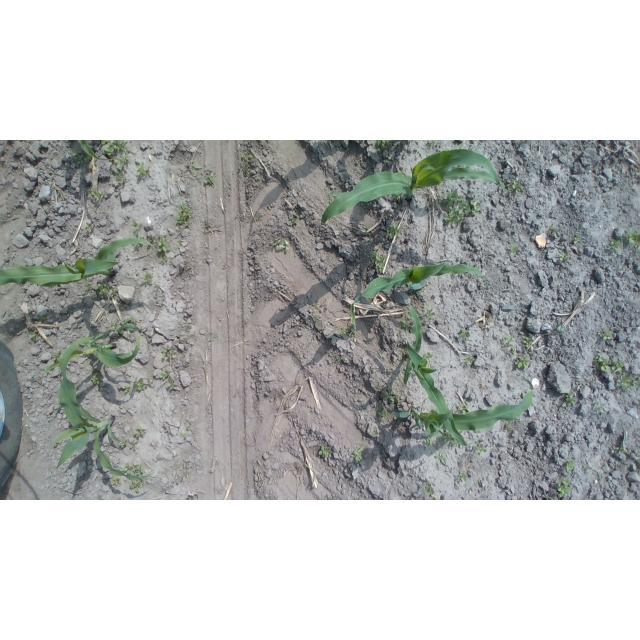Maize: (318, 148, 503, 232), (42, 319, 152, 434), (374, 376, 534, 450), (1, 231, 160, 305), (344, 260, 487, 336), (395, 305, 467, 451), (48, 391, 136, 490)
Weeds: (440, 191, 485, 229), (83, 281, 120, 299), (97, 140, 132, 158), (69, 143, 96, 164), (596, 355, 625, 374), (370, 249, 389, 276), (128, 426, 149, 450), (614, 374, 640, 393), (552, 478, 574, 499), (176, 202, 193, 229), (157, 234, 172, 264), (560, 389, 580, 411), (620, 229, 640, 250), (242, 151, 256, 179), (115, 157, 129, 185), (120, 463, 145, 478), (470, 439, 490, 457), (134, 375, 153, 393), (498, 333, 517, 351), (589, 398, 607, 417), (351, 445, 368, 465), (508, 179, 528, 196), (377, 401, 392, 423), (135, 161, 153, 179), (386, 224, 403, 243), (442, 429, 459, 448), (512, 354, 532, 370), (91, 187, 108, 205), (159, 344, 177, 361), (420, 479, 437, 497), (398, 318, 415, 335), (382, 390, 404, 403), (555, 248, 571, 265), (606, 237, 623, 253), (420, 308, 437, 324), (461, 352, 477, 368), (435, 451, 450, 468), (26, 321, 40, 339), (373, 141, 392, 154), (89, 372, 104, 388), (138, 271, 154, 286), (456, 403, 472, 418), (202, 172, 216, 189), (545, 224, 559, 241), (564, 458, 578, 475), (338, 323, 355, 337), (456, 328, 471, 343), (82, 220, 98, 234), (454, 470, 471, 483), (274, 237, 289, 251), (507, 243, 522, 257), (318, 445, 331, 460), (502, 419, 517, 432), (600, 327, 612, 343), (182, 423, 193, 440), (130, 481, 144, 494), (167, 379, 180, 393), (422, 434, 435, 448), (287, 217, 302, 229), (131, 221, 144, 234), (119, 385, 134, 396), (206, 331, 222, 341), (111, 476, 124, 488), (158, 368, 171, 380), (571, 236, 584, 247), (524, 335, 533, 350), (118, 439, 129, 451), (190, 163, 202, 173), (202, 220, 215, 229), (617, 447, 627, 457), (555, 324, 566, 333), (176, 240, 185, 251), (350, 219, 359, 229), (129, 316, 139, 325), (322, 494, 336, 500), (583, 464, 592, 473), (334, 355, 344, 362), (362, 224, 370, 232), (424, 353, 433, 360)
